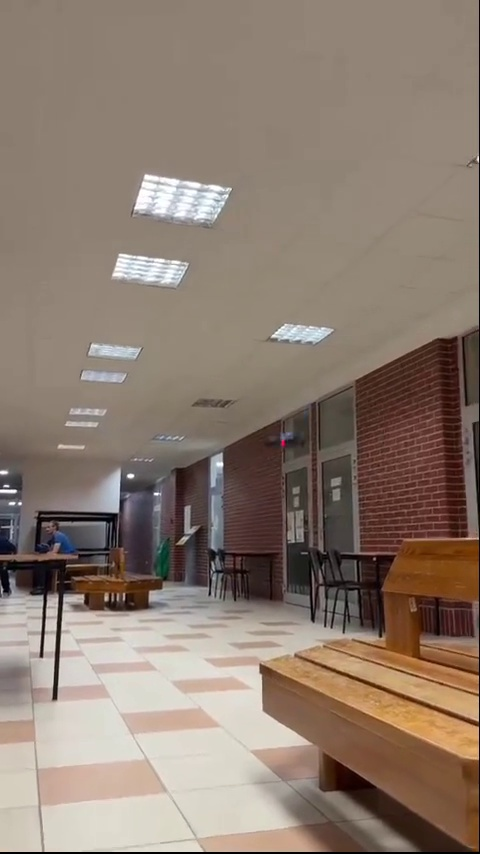drone: (267, 429, 306, 448)
no vest: (36, 511, 74, 575)
